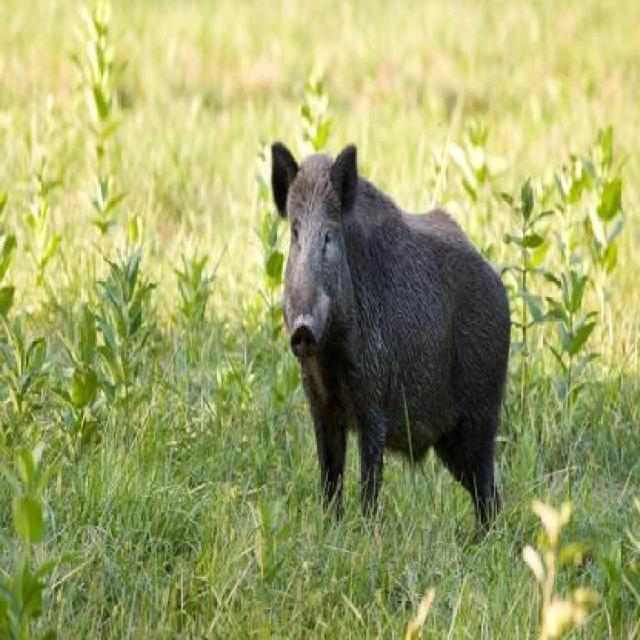wildboar: (263, 132, 514, 540)
